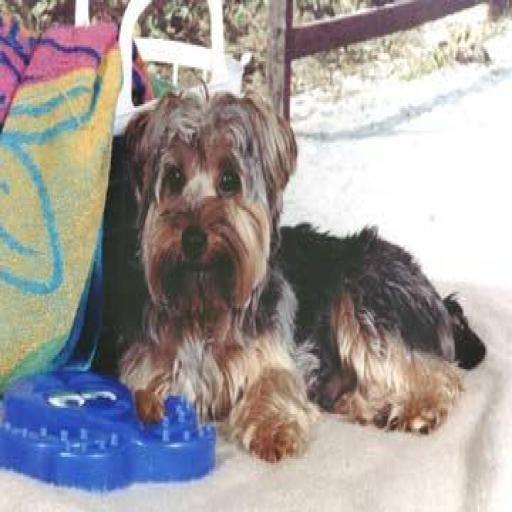dog_face: (124, 97, 292, 309)
